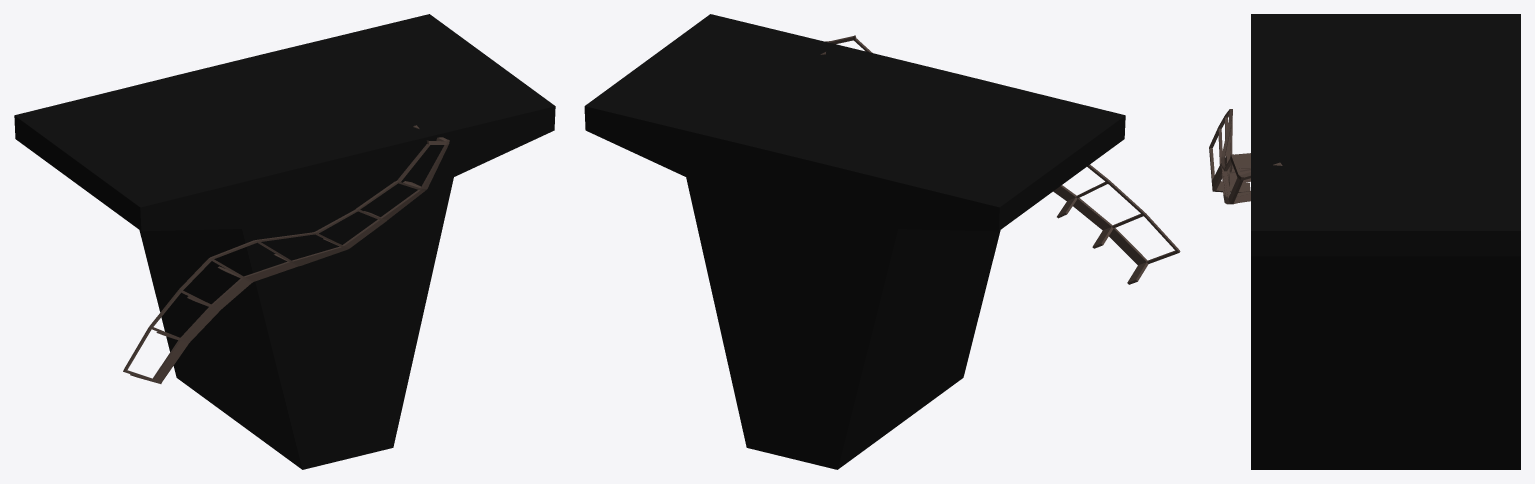
File: ground 3.fbx
The picture shows the model from 3 angles, left to right: view 1: azimuth 30°, elevation 25°; view 2: azimuth 150°, elevation 25°; view 3: azimuth 270°, elevation 25°; orthographic projection. The views are drawn at different scales.
Visible parts, largest first — view 1: ground 3; view 2: ground 3; view 3: ground 3.
Part boxes in pixels (x1,y1,x2,y2): ground 3: [14, 14, 555, 469]; ground 3: [584, 14, 1180, 469]; ground 3: [1209, 14, 1520, 469].
Size of the model in its own units: 1093 by 712 by 611.
